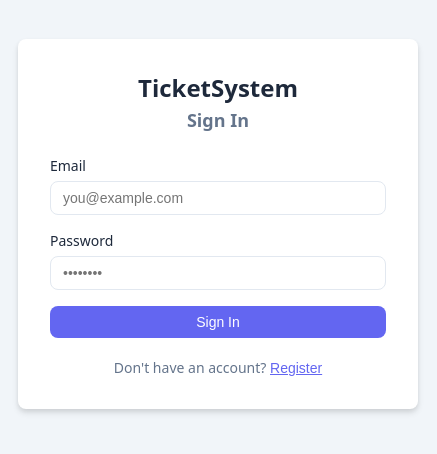
Test: LoginPage › shows validation error for invalid email
The width and height of the screenshot is (437, 454).
Type "not-an-email" into the field labelled "Email" at (218, 198), box [50, 181, 386, 215]
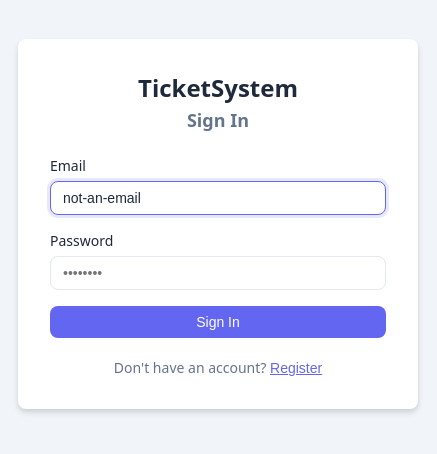
Submit the form from the button "Sign In", box [50, 306, 386, 338]
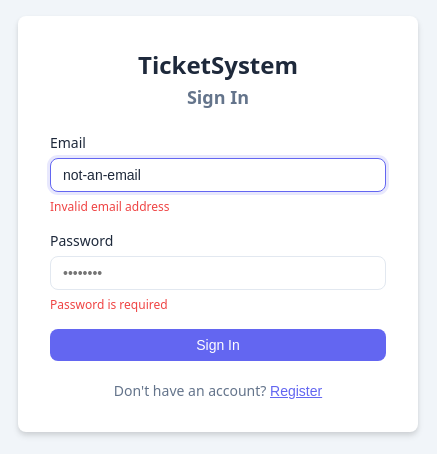
expect the text "Invalid email address" is shown: met, box [50, 198, 170, 215]
